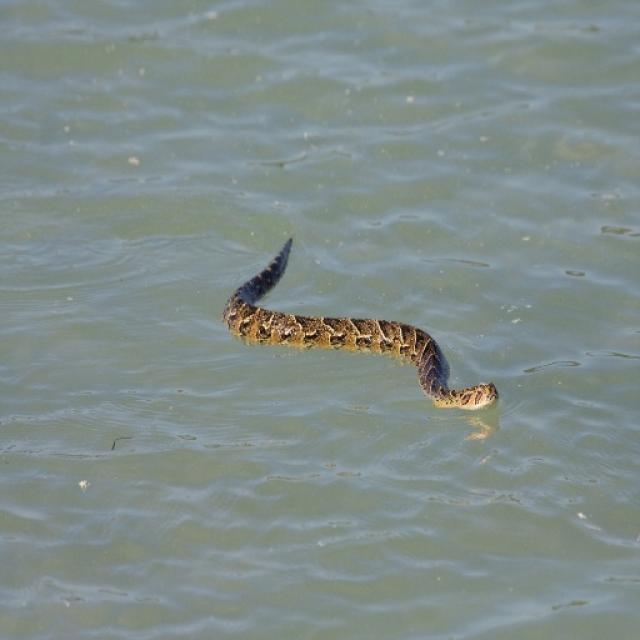snake: (221, 234, 518, 428)
